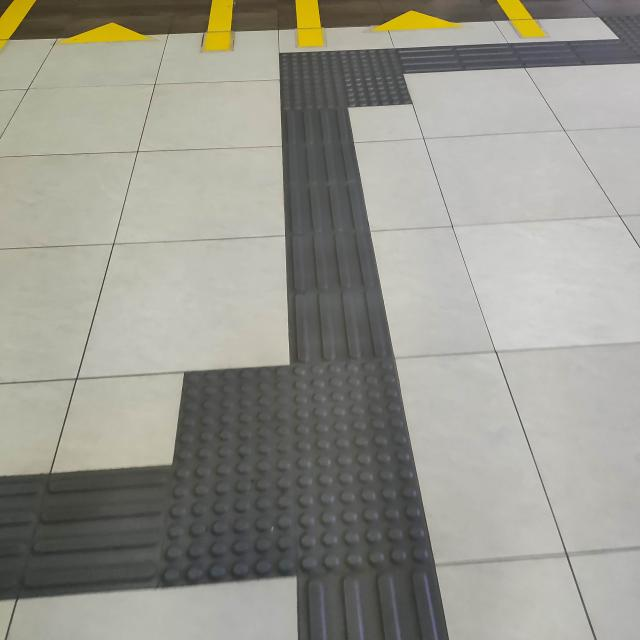kanan: (252, 30, 508, 127)
